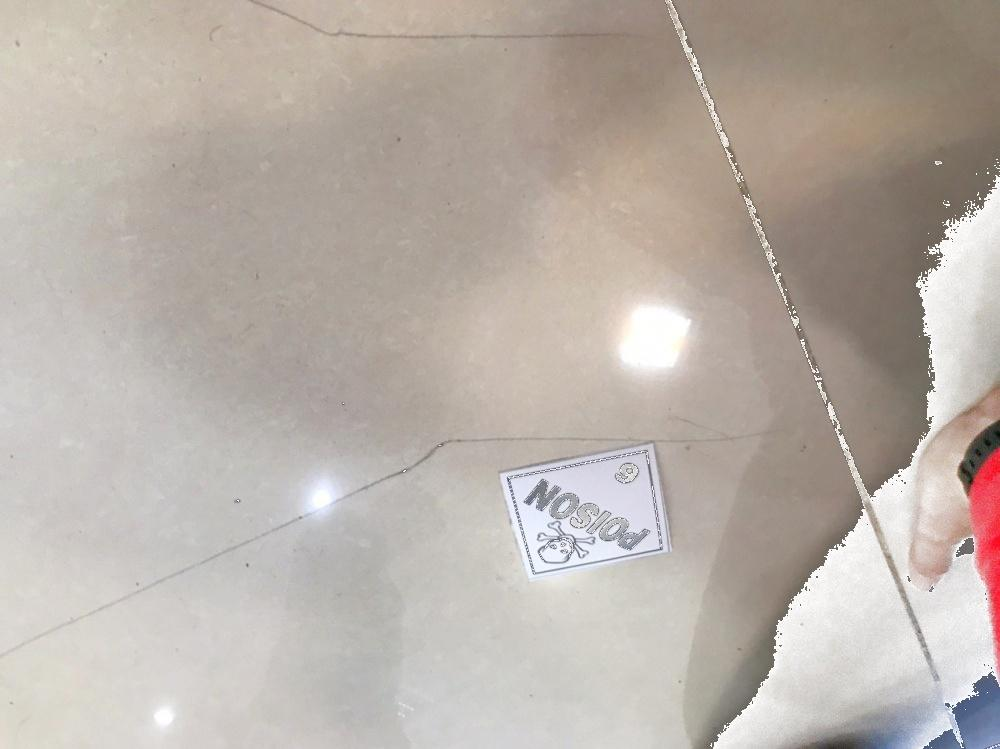poison: (498, 440, 670, 580)
